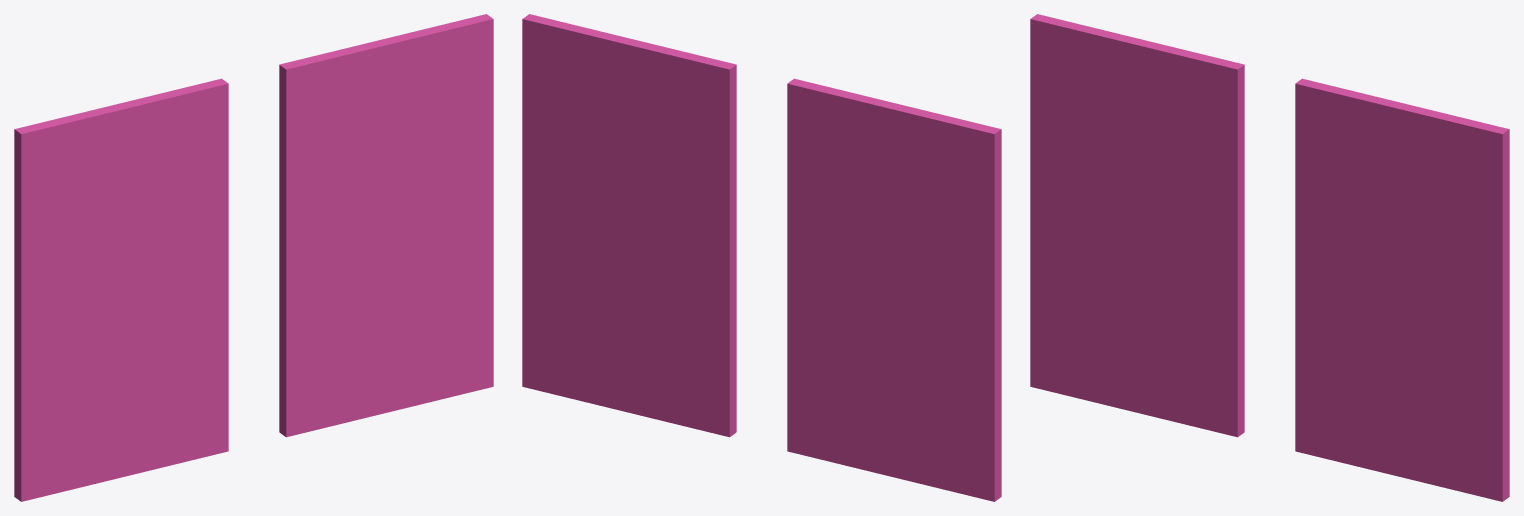
File: OfficeWindow.fbx
The picture shows the model from 3 angles, left to right: view 1: azimuth 30°, elevation 25°; view 2: azimuth 150°, elevation 25°; view 3: azimuth 330°, elevation 25°; orthographic projection.
Visible parts, largest first — view 1: GlassWindow; view 2: GlassWindow; view 3: GlassWindow.
Boxes of the visible parts, left/top/right/bottom form: GlassWindow: left=14, top=14, right=493, bottom=501; GlassWindow: left=522, top=14, right=1001, bottom=501; GlassWindow: left=1030, top=14, right=1509, bottom=501.
Size of the model in its own units: 79.02 by 58.81 by 2.
